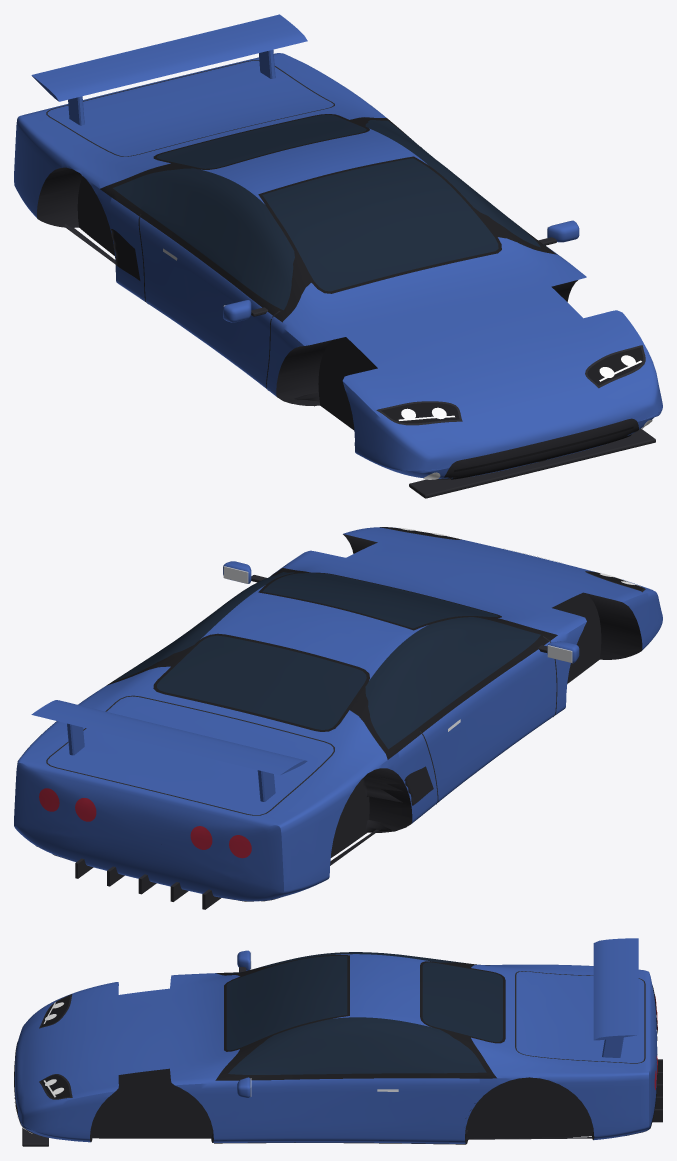
Rendered from kaze.glb.
3 views of the same model, one above another, from view 1: azimuth 30°, elevation 25°; view 2: azimuth 150°, elevation 25°; view 3: azimuth 270°, elevation 25° (orthographic). The views are drawn at different scales.
Parts seen in each view (by area): view 1: body, wing; view 2: body, wing; view 3: body, wing.
Part boxes in pixels (x1,y1,x2,y2): body: (14, 53, 662, 498); wing: (31, 14, 307, 125); body: (14, 527, 662, 909); wing: (31, 700, 307, 801); body: (14, 950, 662, 1146); wing: (593, 938, 638, 1057).
Bounding box in the file's own units: 2.44 × 0.9848 × 4.86.
